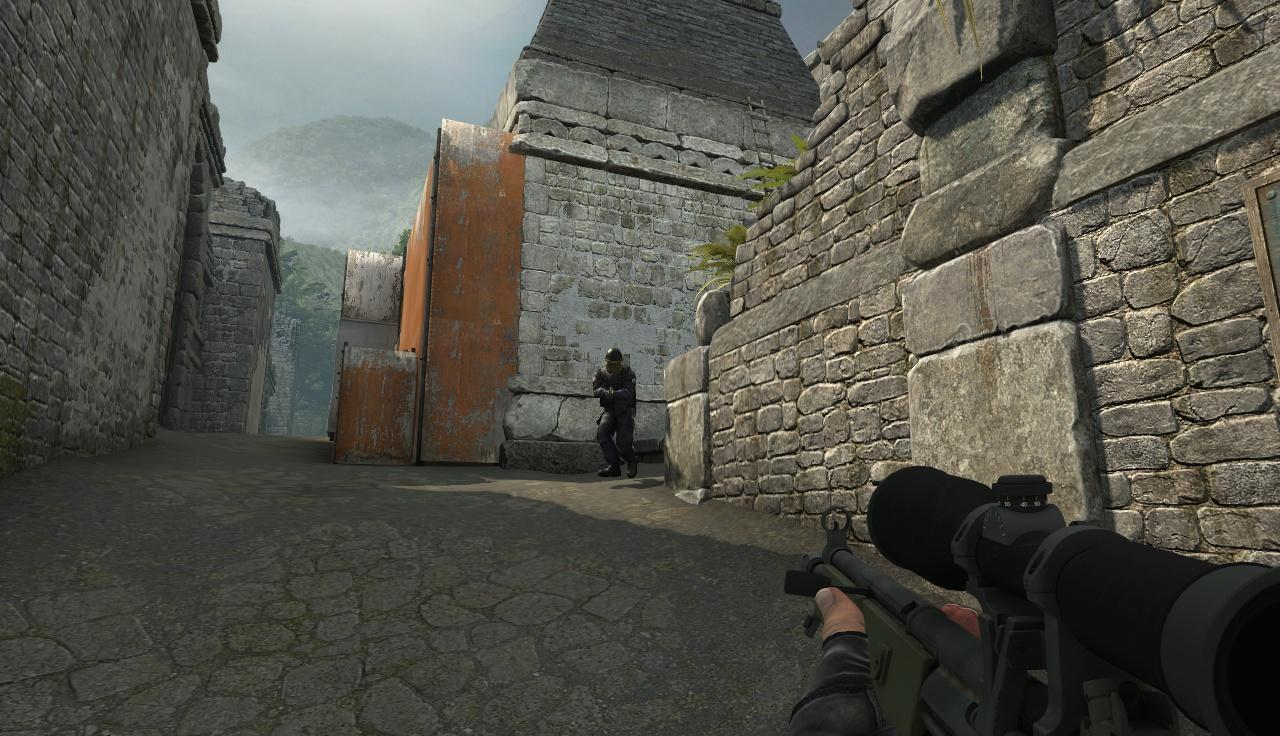ct: (591, 347, 634, 481)
cthead: (607, 349, 629, 374)
sniper: (816, 460, 1280, 731)
